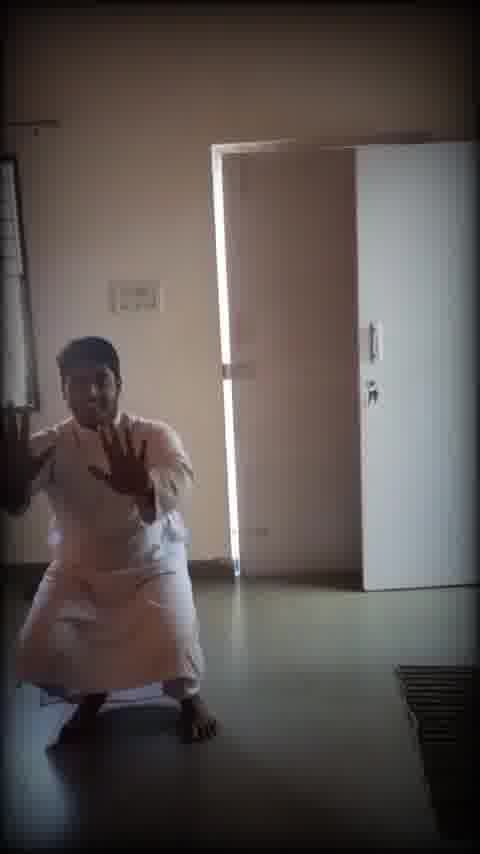duck: (11, 339, 236, 774)
